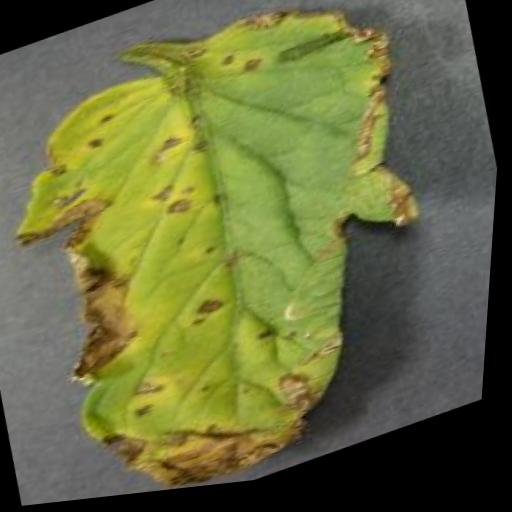Bacterial Spot: (0, 0, 493, 512)
